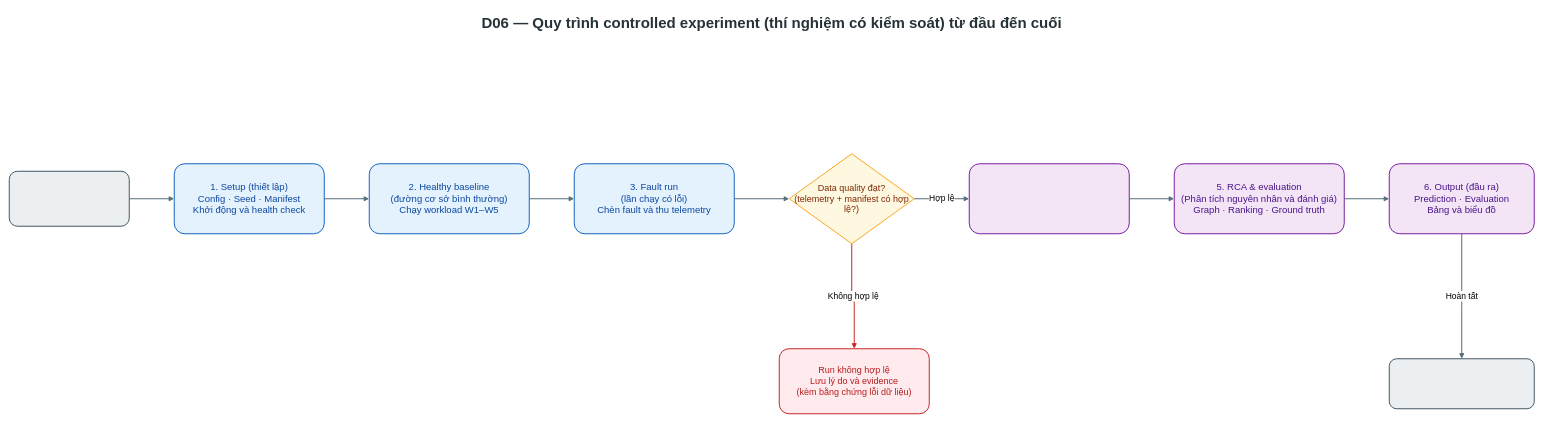
Image size: 1543x423. Some labels were removed from this diagram. Here are the shapes that lost their labels. From the top down, the box of each, then its label:
(8, 170, 130, 226): Bắt đầu run (lần chạy)
(968, 163, 1130, 234): 4. Analyze (phân tích) Time alignment · Features Phát hiện incident
(1388, 358, 1534, 409): Kết thúc run
